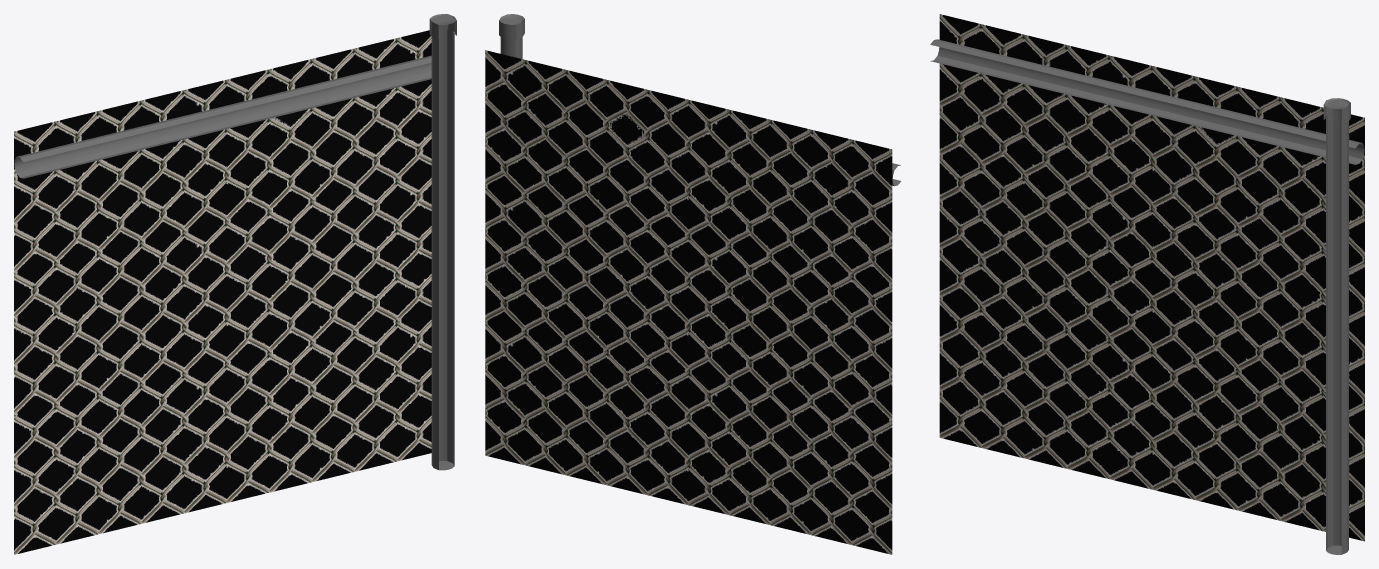
Rendered from Fence Segment.fbx.
3 views of the same model, side by side, from view 1: azimuth 30°, elevation 25°; view 2: azimuth 150°, elevation 25°; view 3: azimuth 330°, elevation 25° (orthographic). The views are drawn at different scales.
Parts seen in each view (by area): view 1: Fence Segment; view 2: Fence Segment; view 3: Fence Segment.
Boxes of the visible parts, x1=… form: Fence Segment: x1=14, y1=14, x2=456, y2=554; Fence Segment: x1=485, y1=14, x2=901, y2=554; Fence Segment: x1=930, y1=14, x2=1364, y2=554.
Size of the model in its own units: 300 by 302 by 27.73.
